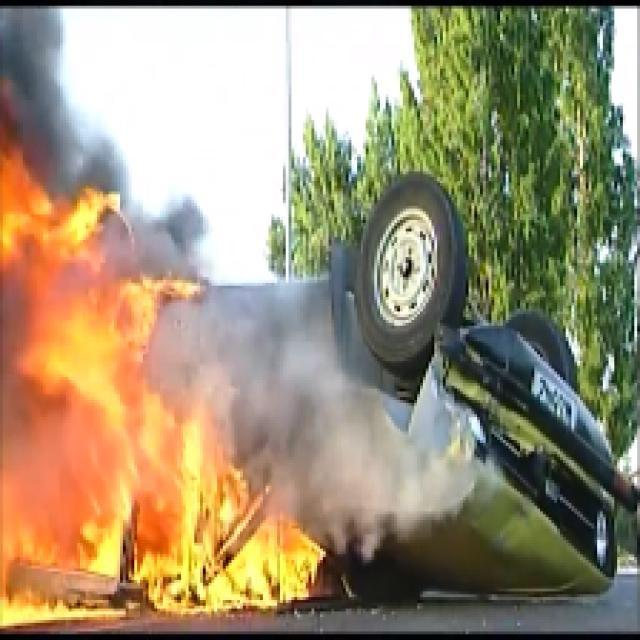Fire: (2, 86, 332, 628)
Smoke: (243, 277, 463, 546), (2, 3, 72, 140)
